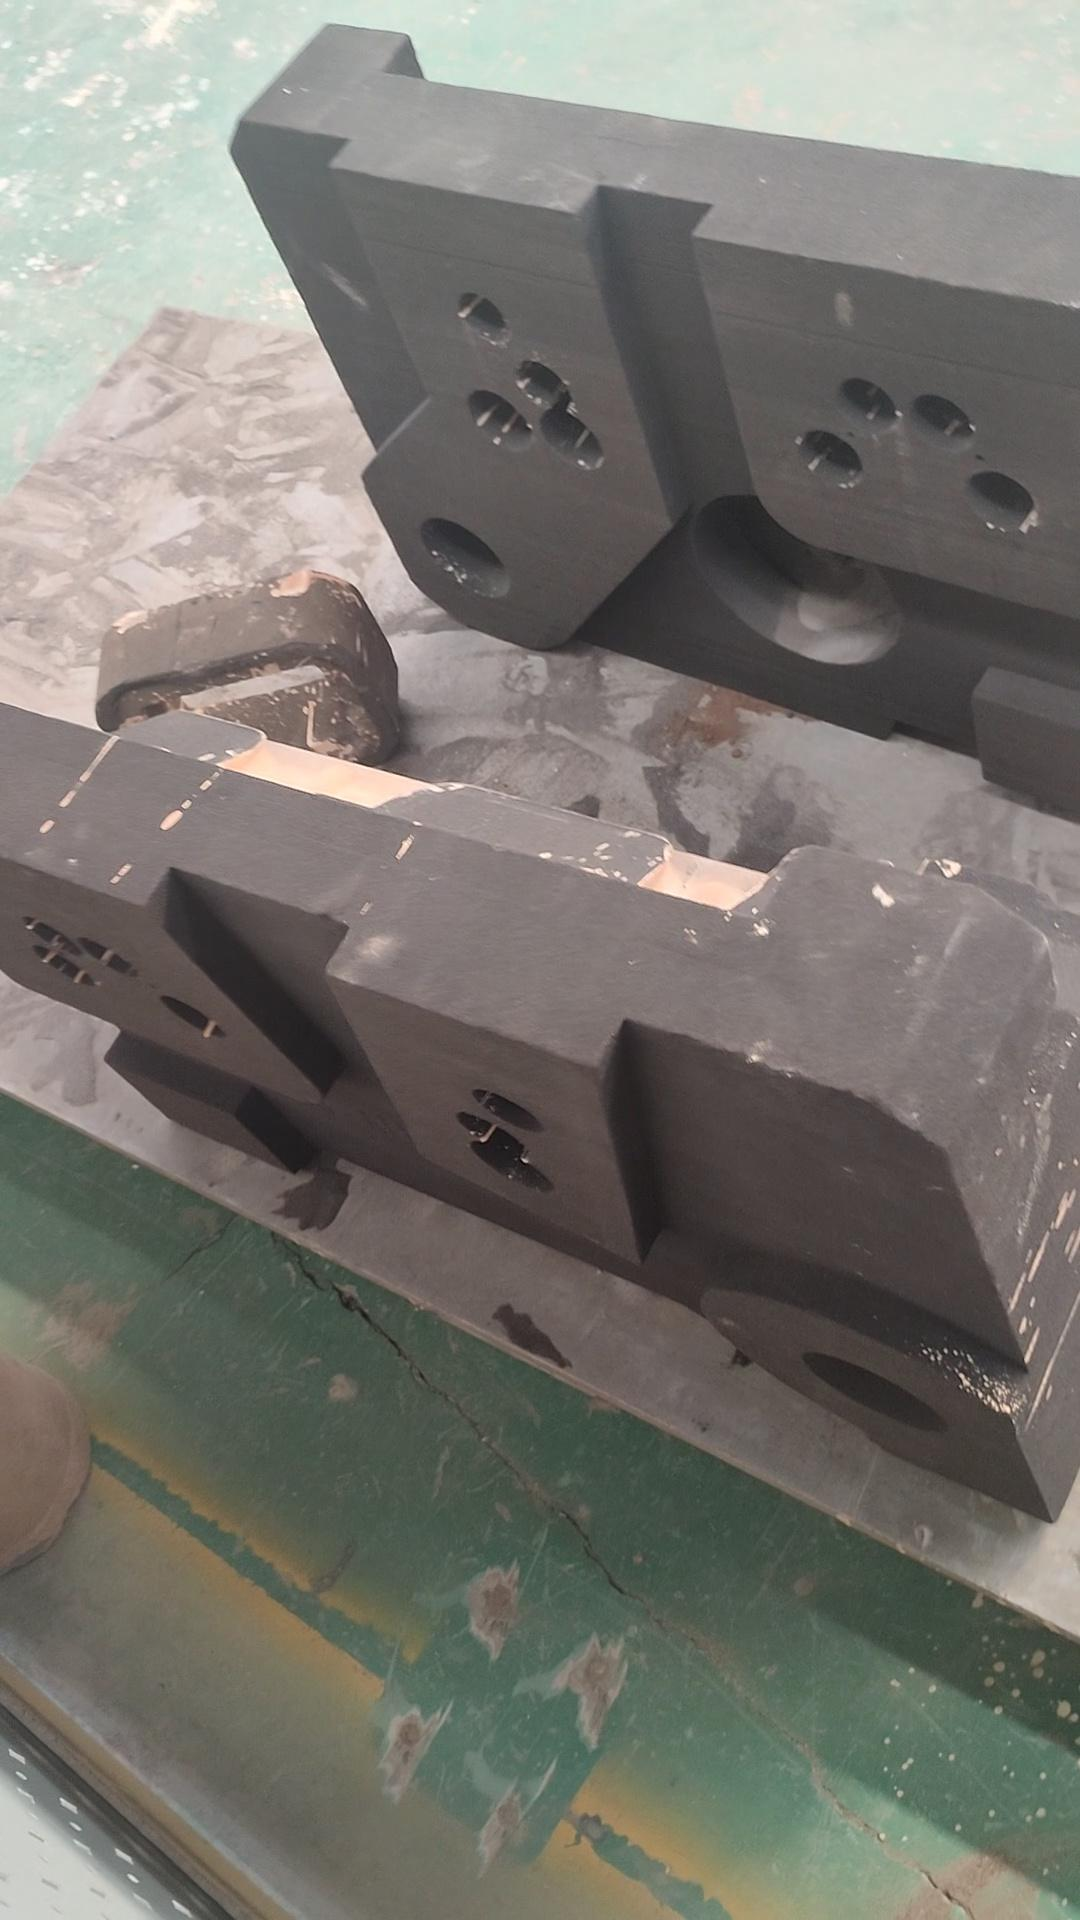pouring hole: (802, 1352, 948, 1436), (417, 517, 510, 597)
